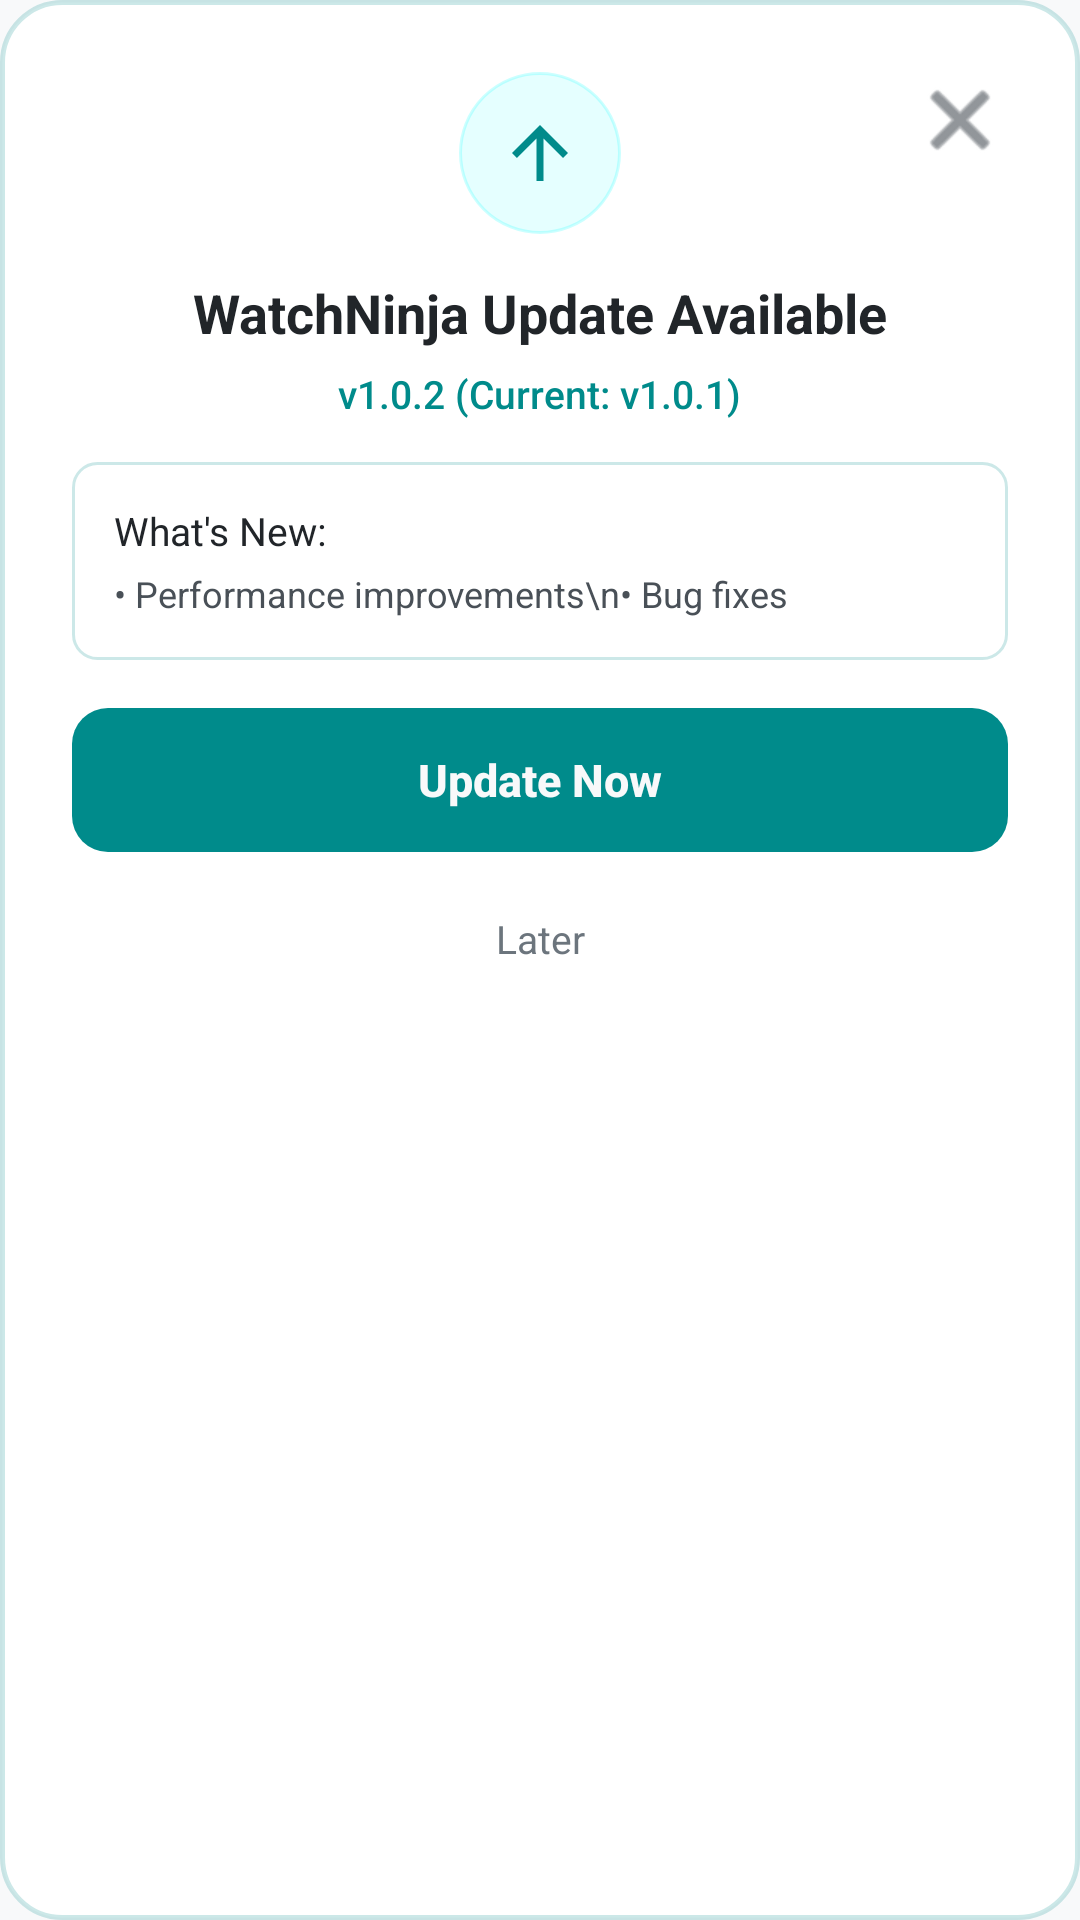

Named icons in this screenshot (1080px×1920px) and their centers, (x=x, y=y):
Close: (x=960, y=120)
